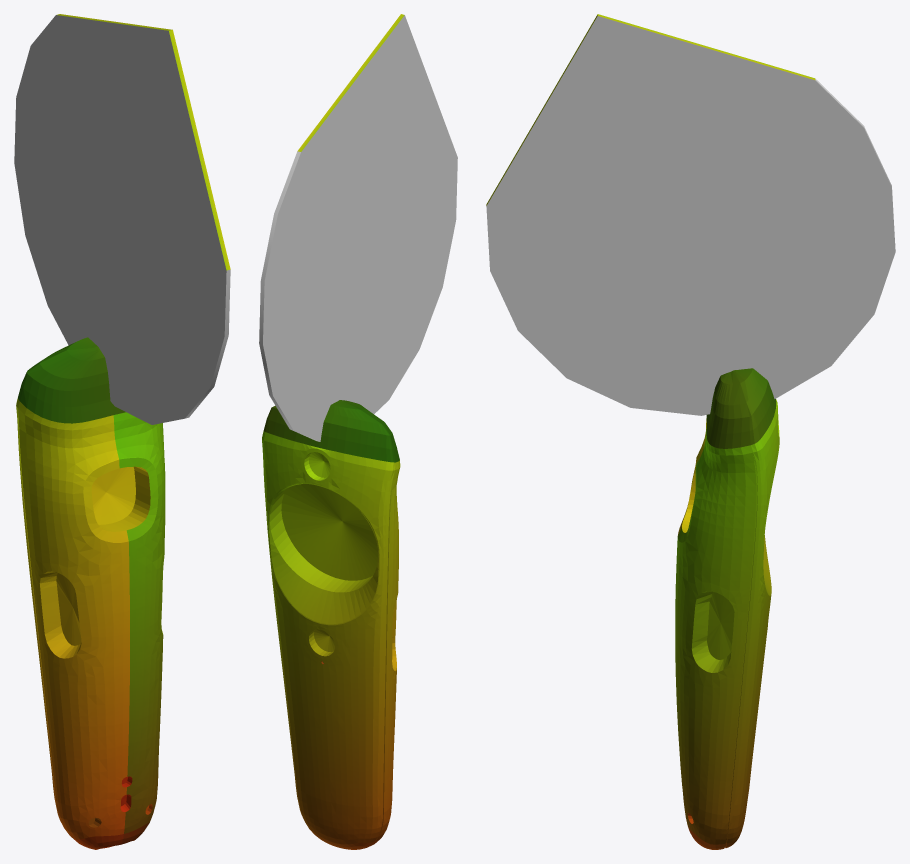
File: selection_tool_mesh.FBX
3 views of the same model, side by side, from view 1: azimuth 30°, elevation 25°; view 2: azimuth 150°, elevation 25°; view 3: azimuth 270°, elevation 25° (orthographic). The views are drawn at different scales.
Visible parts, largest first — view 1: Selection Controller Mesh; view 2: Selection Controller Mesh; view 3: Selection Controller Mesh.
Part boxes in pixels (x1,y1,x2,y2): Selection Controller Mesh: (14,14,230,849); Selection Controller Mesh: (259,14,457,849); Selection Controller Mesh: (486,14,895,849).
Size of the model in its own units: 5.15 by 29.63 by 13.24.
